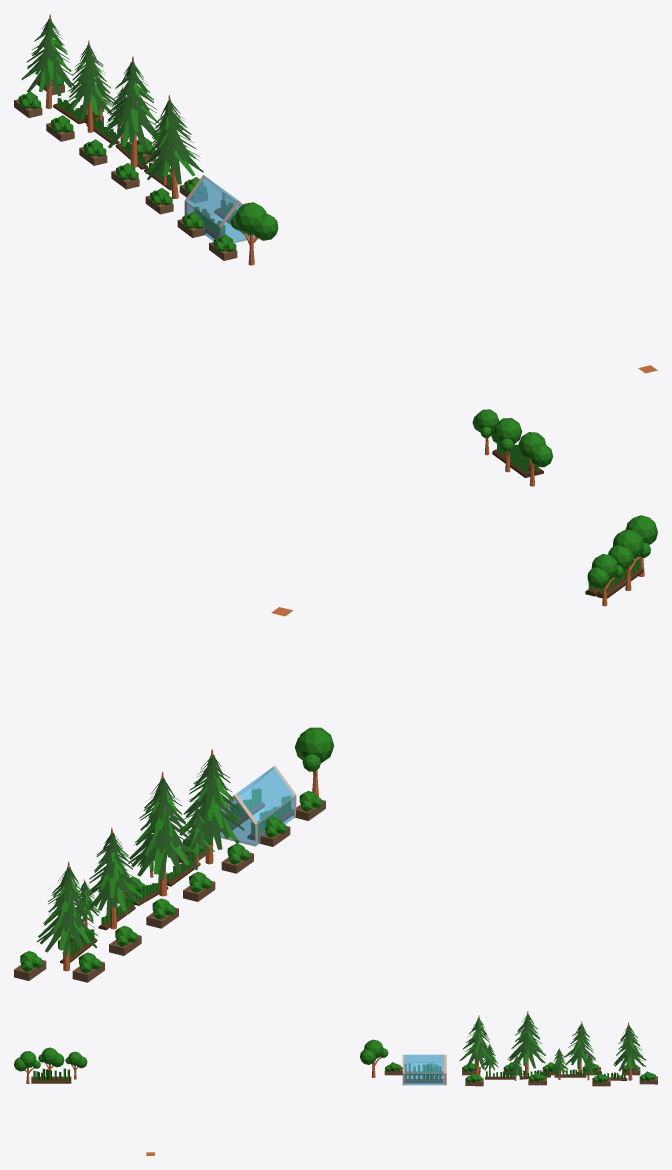
The model's file is solution_1_green_walkable_street.fbx.
3 views of the same model, one above another, from view 1: azimuth 30°, elevation 25°; view 2: azimuth 150°, elevation 25°; view 3: azimuth 270°, elevation 25° (orthographic). The views are drawn at different scales.
Visible parts, largest first — view 1: solution 1_green_walkable_street; view 2: solution 1_green_walkable_street; view 3: solution 1_green_walkable_street.
Boxes of the visible parts, x1,y1,x2,y2 form: solution 1_green_walkable_street: [14, 14, 657, 486]; solution 1_green_walkable_street: [14, 515, 657, 982]; solution 1_green_walkable_street: [14, 1011, 657, 1155].
Size of the model in its own units: 3843 by 2053 by 14557.
